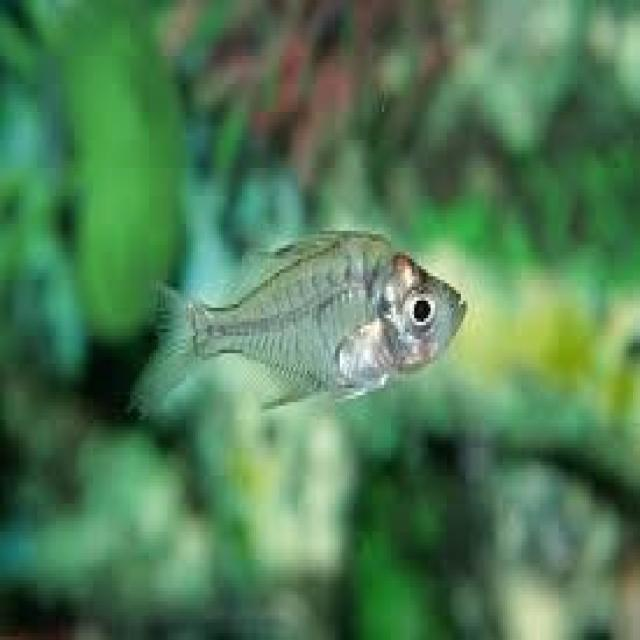Glass-Perchlet: (101, 153, 502, 488)
